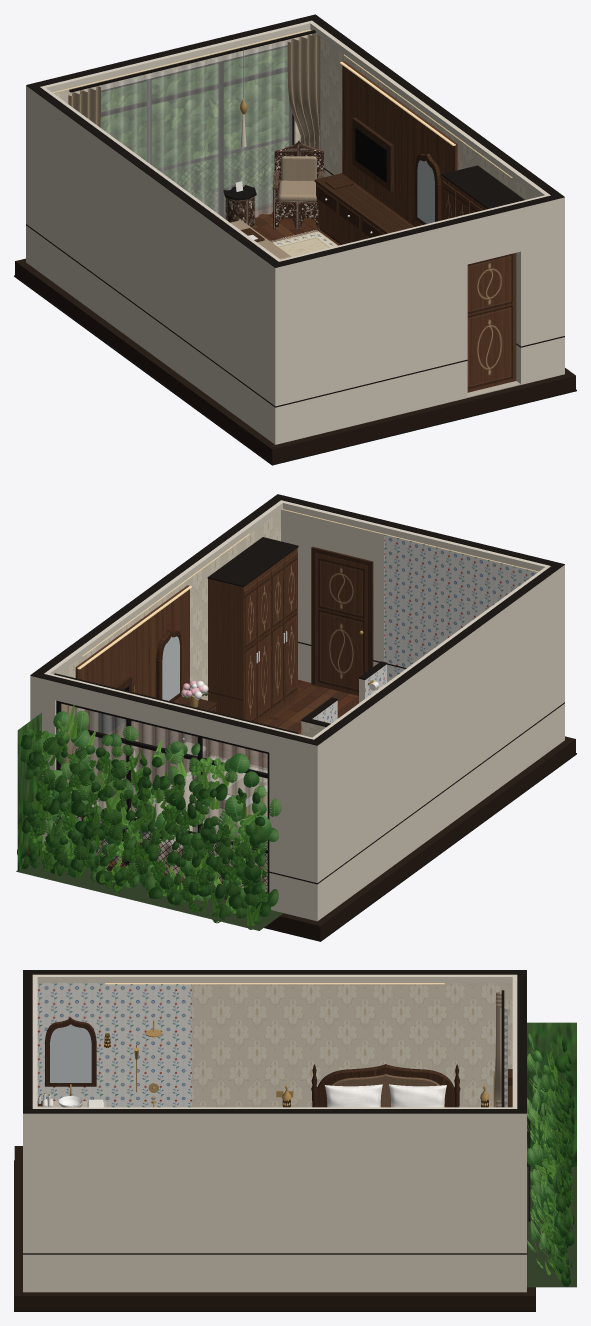
The model's file is deluxe-vertical-king.glb.
The picture shows the model from 3 angles, top to bottom: view 1: azimuth 30°, elevation 25°; view 2: azimuth 150°, elevation 25°; view 3: azimuth 270°, elevation 25°; orthographic projection.
Visible parts, largest first — view 1: lm_duvar_sol, lm_duvar_on, lm_oda, dz_ekli_arka, dz_bahce_arka, lm_duvar_sag, lm_ekli_sag, lm_ekli_arka, lm_ekli_on, lm_duvar_arka, dz_ekli_sag; view 2: lm_duvar_sol, dz_bahce_arka, lm_duvar_sag, lm_duvar_on, lm_oda, lm_duvar_arka, lm_ekli_on, lm_ekli_sag, dz_ekli_arka, lm_ekli_arka, dz_ekli_sag; view 3: lm_duvar_sag, lm_duvar_sol, lm_oda, dz_bahce_arka, dz_ekli_sol, lm_duvar_on, lm_duvar_arka, lm_ekli_arka, lm_ekli_sol, dz_kap_sag, dz_duvar_sol.
Boxes of the visible parts, <box> form: lm_duvar_sol: <box>26,83,283,444</box>; lm_duvar_on: <box>279,195,556,442</box>; lm_oda: <box>14,140,576,465</box>; dz_ekli_arka: <box>91,39,292,218</box>; dz_bahce_arka: <box>101,47,288,213</box>; lm_duvar_sag: <box>307,14,564,375</box>; lm_ekli_sag: <box>342,61,457,226</box>; lm_ekli_arka: <box>68,30,320,217</box>; lm_ekli_on: <box>467,253,516,392</box>; lm_duvar_arka: <box>35,16,311,144</box>; dz_ekli_sag: <box>340,62,455,223</box>; lm_duvar_sol: <box>309,562,564,921</box>; dz_bahce_arka: <box>16,704,283,930</box>; lm_duvar_sag: <box>30,494,298,723</box>; lm_duvar_on: <box>281,496,556,682</box>; lm_oda: <box>77,661,576,941</box>; lm_duvar_arka: <box>38,673,313,919</box>; lm_ekli_on: <box>311,546,373,695</box>; lm_ekli_sag: <box>75,585,189,764</box>; dz_ekli_arka: <box>56,707,268,899</box>; lm_ekli_arka: <box>54,673,302,894</box>; dz_ekli_sag: <box>77,586,191,700</box>; lm_duvar_sag: <box>23,1107,526,1292</box>; lm_duvar_sol: <box>23,970,526,1107</box>; lm_oda: <box>14,1064,535,1311</box>; dz_bahce_arka: <box>527,1022,576,1287</box>; dz_ekli_sol: <box>50,1024,110,1082</box>; lm_duvar_on: <box>23,974,37,1108</box>; lm_duvar_arka: <box>512,974,526,1108</box>; lm_ekli_arka: <box>493,990,530,1221</box>; lm_ekli_sol: <box>45,1017,162,1092</box>; dz_kap_sag: <box>23,1249,527,1254</box>; dz_duvar_sol: <box>105,983,444,984</box>.
Size of the model in its own units: 5.14 by 3.11 by 8.13.
Materials: 42 (26 with a texture image).
